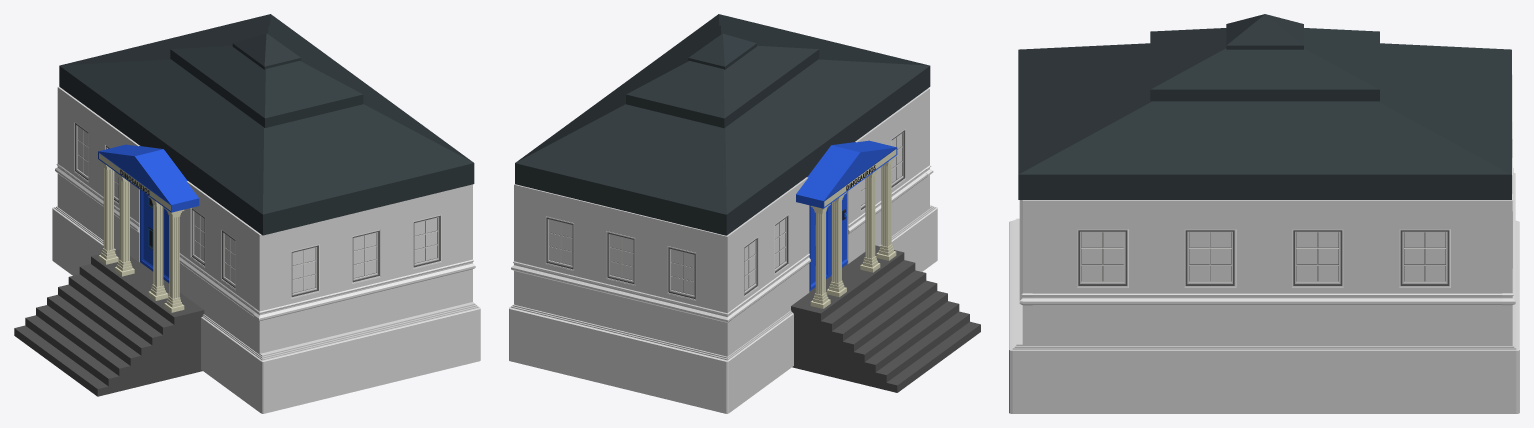
File: Museum_Blue.fbx
3 renders of one model, left to right at view 1: azimuth 30°, elevation 25°; view 2: azimuth 150°, elevation 25°; view 3: azimuth 270°, elevation 25°, orthographic. The views are drawn at different scales.
Visible parts, largest first — view 1: Techo1.001, Museo_Pared_Derecha.001, Museo_Base.001, Escalera.002, Techo2.001, Museo_Pared_Frontal_Der.001, Museo_Pared_Frontal_Izq.001, Museo_Techo_Puerta.001, Museo_Puerta.001, Techo3.001, Columna4.001, Columna2.001 (+10 smaller); view 2: Techo1.001, Museo_Pared_izquierda.001, Museo_Base.001, Escalera.002, Techo2.001, Museo_Pared_Frontal_Izq.001, Museo_Pared_Frontal_Der.001, Museo_Techo_Puerta.001, Techo3.001, Museo_Puerta.001, Columna2.001, Columna1.001 (+8 smaller); view 3: Techo1.001, Museo_Pared_Trasera.001, Museo_Base.001, Techo2.001, Techo3.001, Museo_Pared_izquierda.001, A38_Window_120x150_062_Mat_A38_Window_Glass_001_0.015, A38_Window_120x150_062_Mat_A38_Window_Glass_001_0.016, A38_Window_120x150_062_Mat_A38_Window_Glass_001_0.017, A38_Window_120x150_062_Mat_A38_Window_Glass_001_0.018, Museo_Pared_Derecha.001, A38_Window_120x150_062_Mat_A38_Window_Frame_002_0.015.
Boxes of the visible parts, x1,y1,x2,y2 form: Techo1.001: (59,14,474,235); Museo_Pared_Derecha.001: (253,186,475,353); Museo_Base.001: (52,206,480,413); Escalera.002: (14,249,204,396); Techo2.001: (170,25,363,127); Museo_Pared_Frontal_Der.001: (179,181,256,350); Museo_Pared_Frontal_Izq.001: (60,89,139,262); Museo_Techo_Puerta.001: (98,144,199,212); Museo_Puerta.001: (140,190,169,282); Techo3.001: (232,33,300,69); Columna4.001: (164,208,184,312); Columna2.001: (98,160,118,264); Techo1.001: (515,14,930,235); Museo_Pared_izquierda.001: (511,184,732,355); Museo_Base.001: (509,205,937,413); Escalera.002: (791,245,980,392); Techo2.001: (626,25,819,128); Museo_Pared_Frontal_Izq.001: (730,177,810,352); Museo_Pared_Frontal_Der.001: (847,91,927,263); Museo_Techo_Puerta.001: (796,140,897,208); Techo3.001: (688,33,756,69); Museo_Puerta.001: (809,192,847,291); Columna2.001: (810,204,830,308); Columna1.001: (826,192,846,297); Techo1.001: (1018,43,1511,199); Museo_Pared_Trasera.001: (1022,200,1502,344); Museo_Base.001: (1009,218,1519,413); Techo2.001: (1150,28,1379,101); Techo3.001: (1226,14,1303,49); Museo_Pared_izquierda.001: (1502,74,1515,344); A38_Window_120x150_062_Mat_A38_Window_Glass_001_0.015: (1404,232,1445,281); A38_Window_120x150_062_Mat_A38_Window_Glass_001_0.016: (1297,232,1338,281); A38_Window_120x150_062_Mat_A38_Window_Glass_001_0.017: (1189,232,1230,281); A38_Window_120x150_062_Mat_A38_Window_Glass_001_0.018: (1082,232,1123,281); Museo_Pared_Derecha.001: (1019,200,1032,344); A38_Window_120x150_062_Mat_A38_Window_Frame_002_0.015: (1400,230,1449,285).
Bounding box in the file's own units: 8875 × 7322 × 10038.
